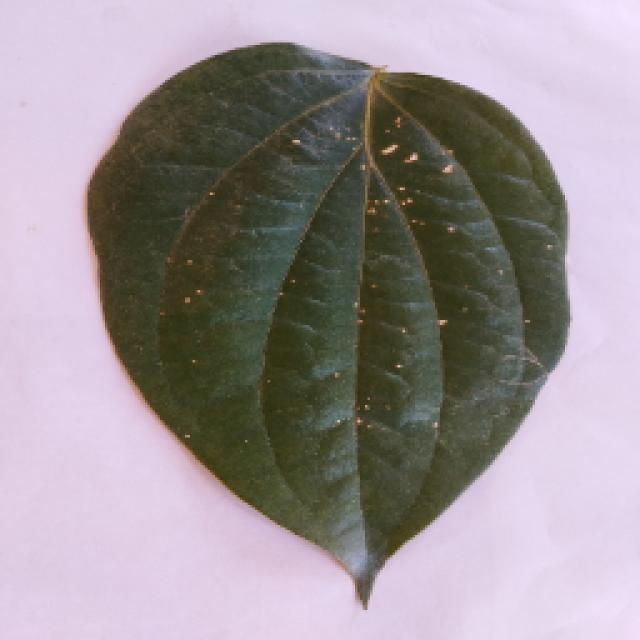pollu-disease: (60, 58, 585, 612)
